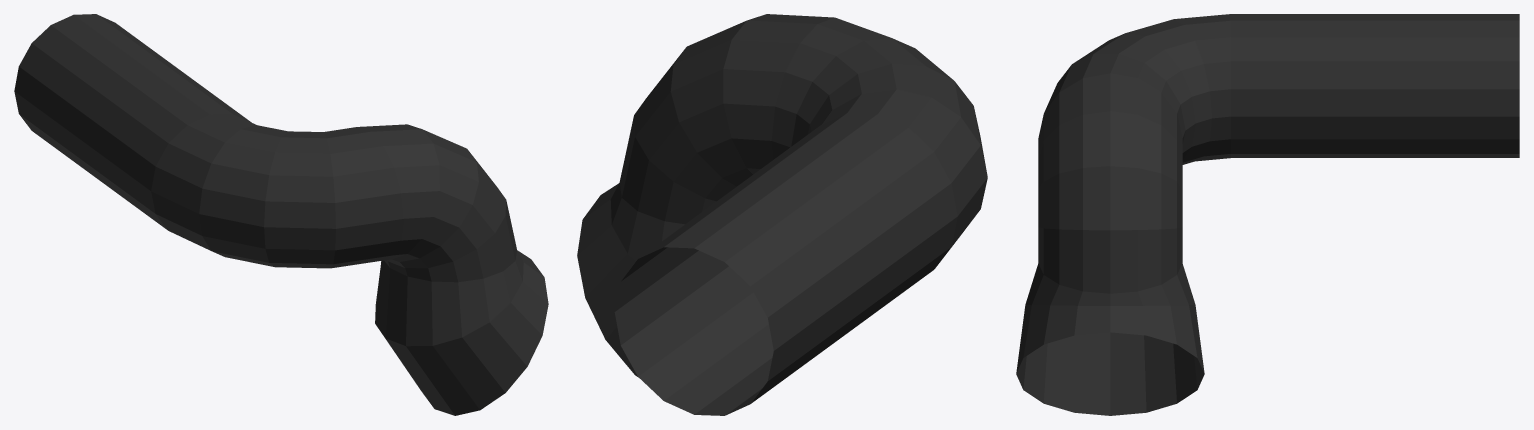
The model's file is escap_pipe.glb.
3 views of the same model, side by side, from view 1: azimuth 30°, elevation 25°; view 2: azimuth 150°, elevation 25°; view 3: azimuth 270°, elevation 25° (orthographic). The views are drawn at different scales.
Parts seen in each view (by area): view 1: Cylinder; view 2: Cylinder; view 3: Cylinder.
Boxes of the visible parts, bbox=[...] form: Cylinder: bbox=[14, 14, 548, 415]; Cylinder: bbox=[577, 14, 987, 415]; Cylinder: bbox=[1016, 14, 1519, 415].
Size of the model in its own units: 1.92 by 1.66 by 2.45.
Materials: 1 (1 with a texture image).
